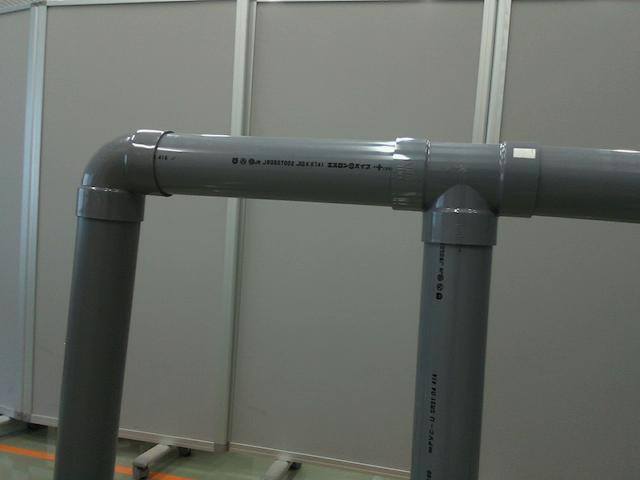bent: (76, 129, 175, 224)
junction: (385, 133, 542, 244)
